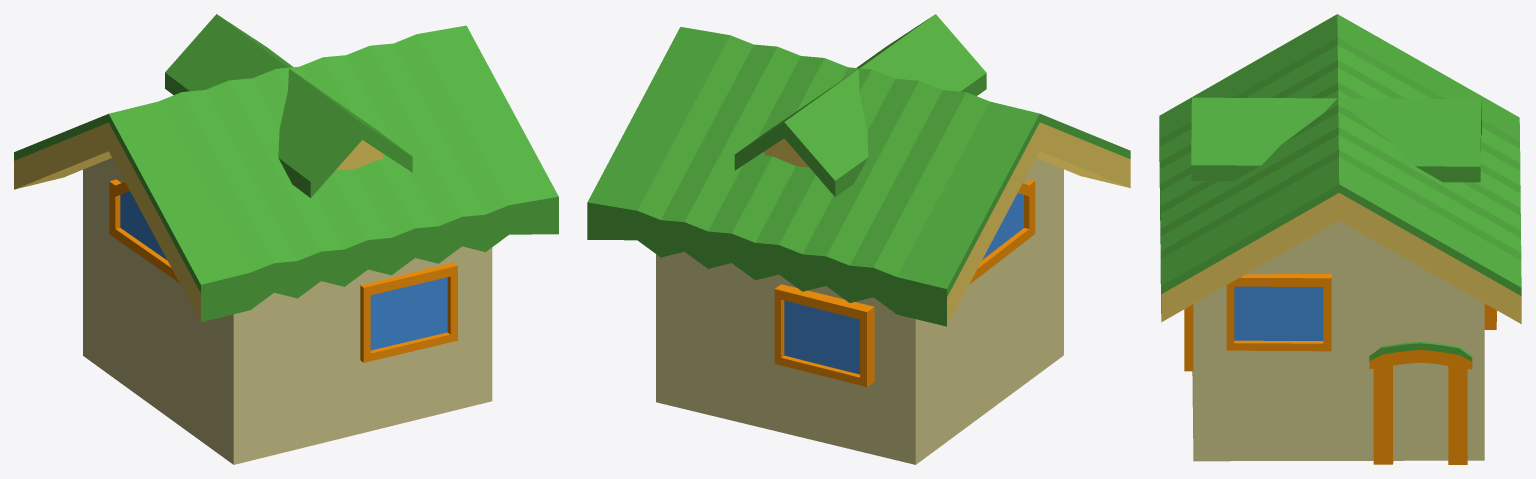
File: house4.fbx
The picture shows the model from 3 angles, left to right: view 1: azimuth 30°, elevation 25°; view 2: azimuth 150°, elevation 25°; view 3: azimuth 270°, elevation 25°; orthographic projection. The views are drawn at different scales.
Parts seen in each view (by area): view 1: Cube.035, Cube.034, Cube.029, Cube.030; view 2: Cube.035, Cube.034, Cube.028, Cube.030; view 3: Cube.035, Cube.034, Cube.036, Cube.033, Cube.031, Cube.032, Cube.029.
Boxes of the visible parts, x1,y1,x2,y2 form: Cube.035: (14, 25, 558, 464); Cube.034: (165, 14, 412, 197); Cube.029: (360, 262, 457, 362); Cube.030: (109, 179, 179, 282); Cube.035: (587, 27, 1130, 464); Cube.034: (734, 14, 986, 196); Cube.028: (774, 284, 874, 386); Cube.030: (969, 179, 1035, 284); Cube.035: (1159, 14, 1521, 461); Cube.034: (1191, 97, 1481, 182); Cube.036: (1226, 274, 1331, 351); Cube.033: (1369, 341, 1472, 369); Cube.031: (1373, 365, 1393, 464); Cube.032: (1448, 366, 1467, 464); Cube.029: (1184, 304, 1193, 371).
Bounding box in the file's own units: 6698 × 5604 × 5997.
